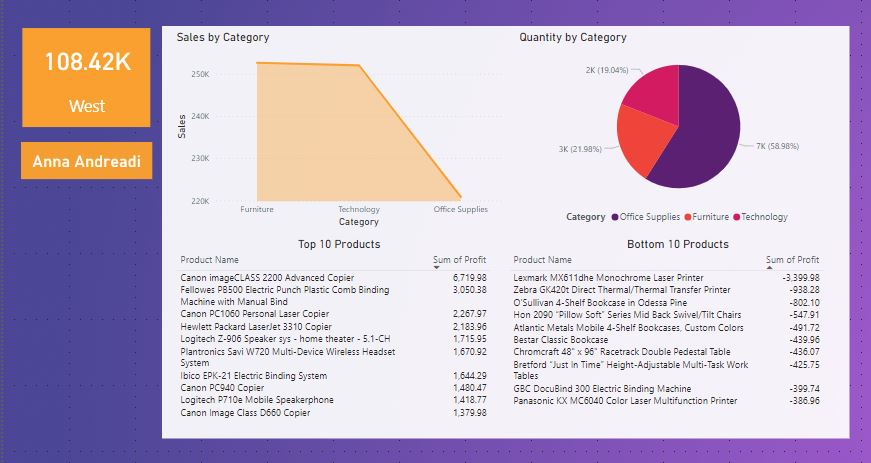

The page's visual inventory and layout, read from the dashboard file:
{"tool":"powerbi","page":{"name":"West","canvas":[1280,720],"ordinal":1},"visuals":[{"type":"basicShape","title":"West","box":[24.8,53.9,193.5,149.8],"z":0,"group":"g1"},{"type":"basicShape","title":"West","box":[230.7,53.9,1000.4,599.6],"z":0},{"type":"group","id":"g1","title":"Group 1","box":[24.8,53.9,193.7,149.9],"z":1000},{"type":"textbox","title":"Yellow Title","box":[25.5,147.8,192,52.2],"z":1000,"group":"g1"},{"type":"tableEx","title":"Top 10 Products","fields":{"Values":["Orders.Product Name","Orders.Profit"]},"box":[247.6,360.4,483.4,279.6],"z":2000},{"type":"tableEx","title":"Bottom 10 Products","fields":{"Values":["Orders.Product Name","Orders.Profit"]},"box":[730.9,360.4,500.2,279.6],"z":3000},{"type":"pieChart","fields":{"Category":["Orders.Category"],"Y":["Orders.Quantity"]},"box":[746.1,58.9,473.3,291.4],"z":4000},{"type":"card","title":"Pink Card","fields":{"Values":["Orders.Profit"]},"box":[25.5,53.9,192,97.5],"z":5000,"group":"g1"},{"type":"areaChart","title":"Sales by Category","fields":{"Category":["Orders.Category"],"Y":["Orders.Sales"]},"box":[247.6,58.9,483.4,291.4],"z":5000},{"type":"card","fields":{"Values":["People.Column1"]},"box":[26.2,222.5,190.5,53.8],"z":6000}]}

Visuals, with their boxes on the page's 1280x720 design canvas (x1, y1, x2, y2). These are canvas units, not pixel positions in the 871x463 screenshot, which may show the page scaled, cropped or inside an application window:
"West" basicShape: 25, 54, 218, 204
"West" basicShape: 231, 54, 1231, 654
"Group 1" group: 25, 54, 218, 204
"Yellow Title" textbox: 26, 148, 218, 200
"Top 10 Products" tableEx: 248, 360, 731, 640
"Bottom 10 Products" tableEx: 731, 360, 1231, 640
pieChart - Orders.Category x Orders.Quantity: 746, 59, 1219, 350
"Pink Card" card: 26, 54, 218, 151
"Sales by Category" areaChart: 248, 59, 731, 350
card - People.Column1: 26, 222, 217, 276
